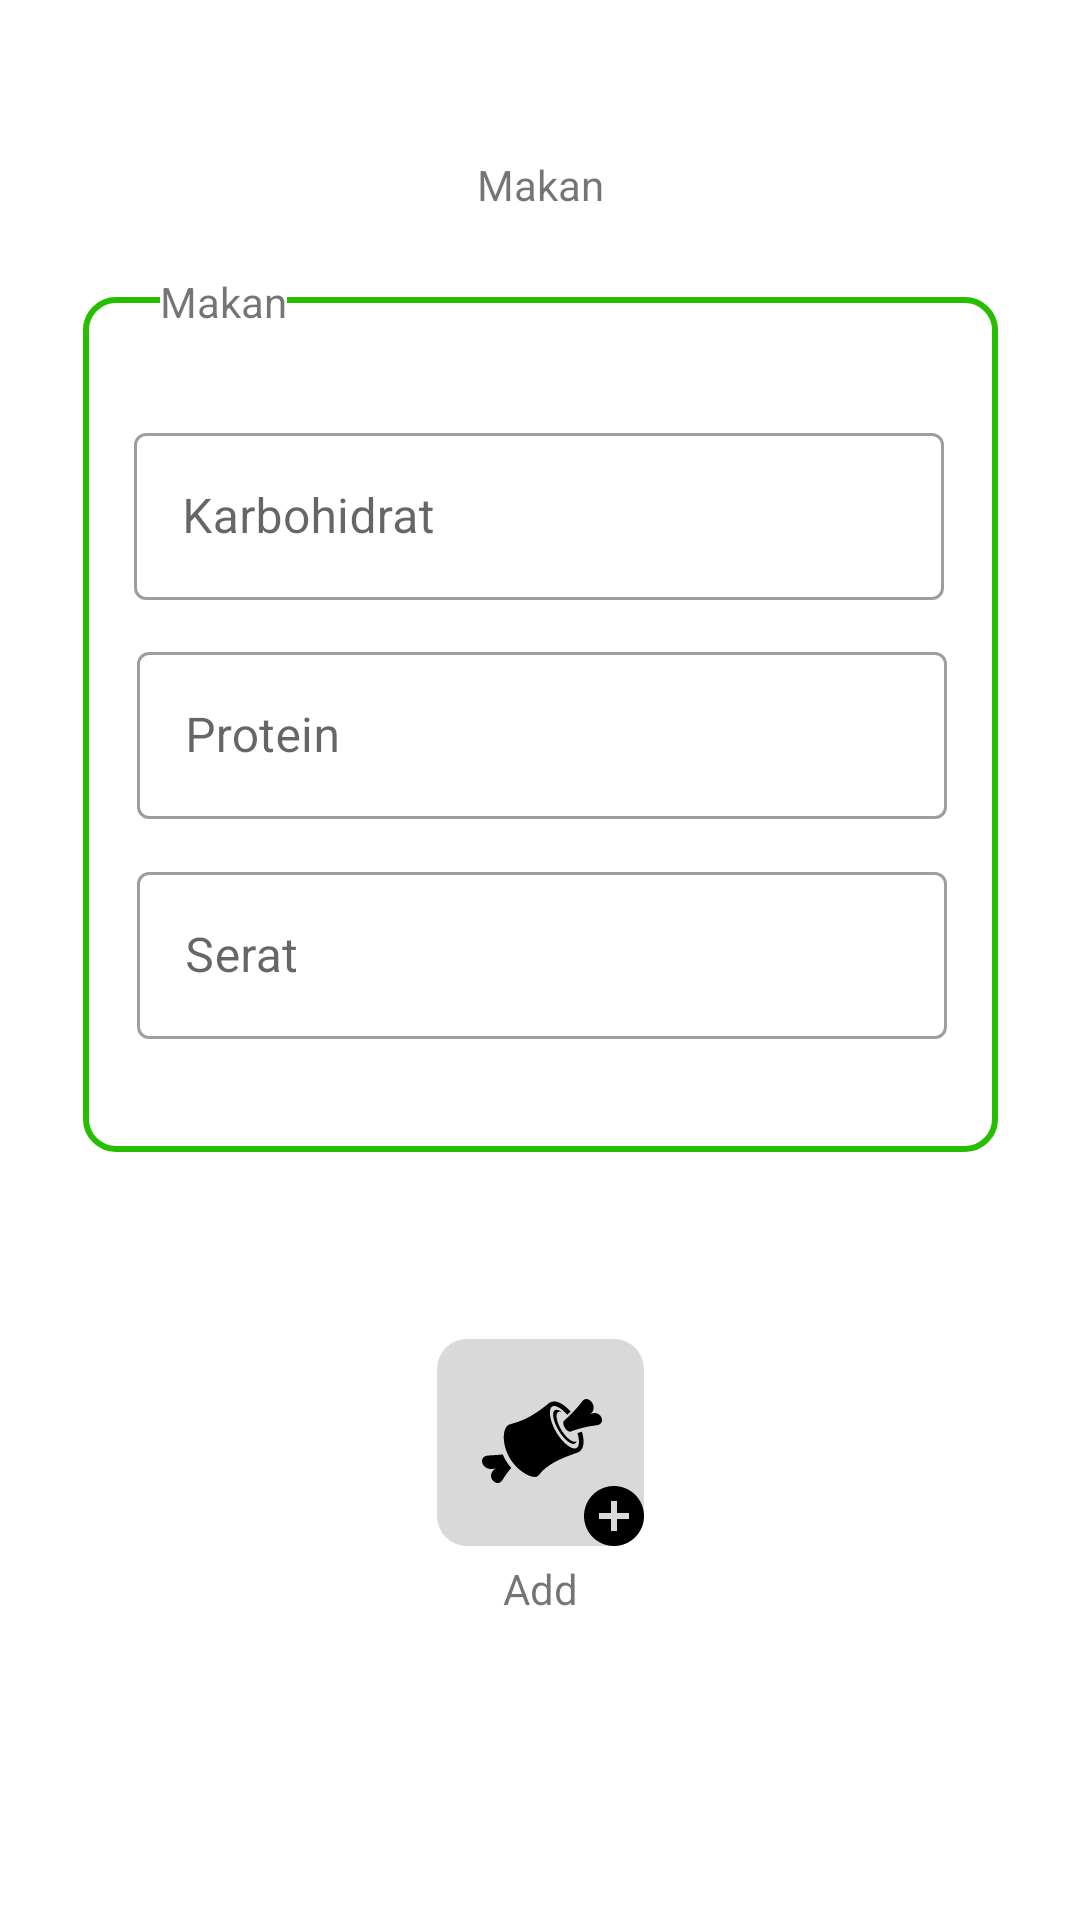

Icon click points for this 1080 x 1920 phone screenshot, format point (x, y):
add makan: point (540, 1442)
